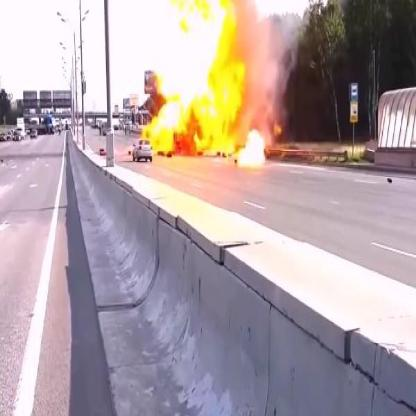fire: (145, 0, 248, 155), (232, 124, 271, 171)
